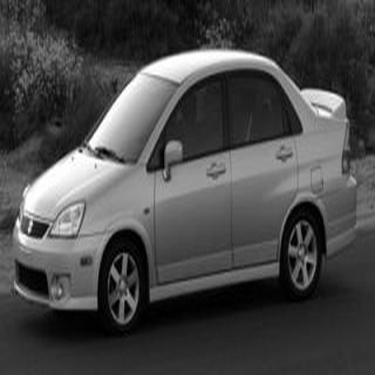car: (6, 41, 360, 334)
